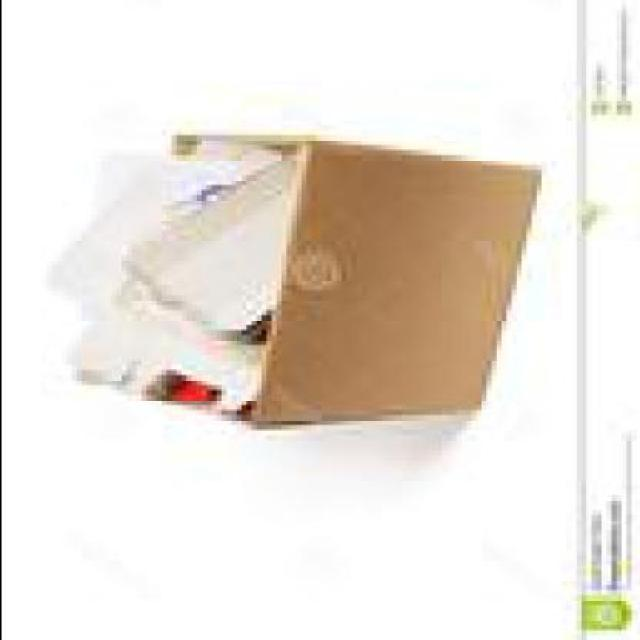CARDBOARD: (160, 134, 535, 434), (40, 156, 249, 324), (120, 155, 289, 340), (64, 296, 256, 424), (80, 156, 151, 204)
